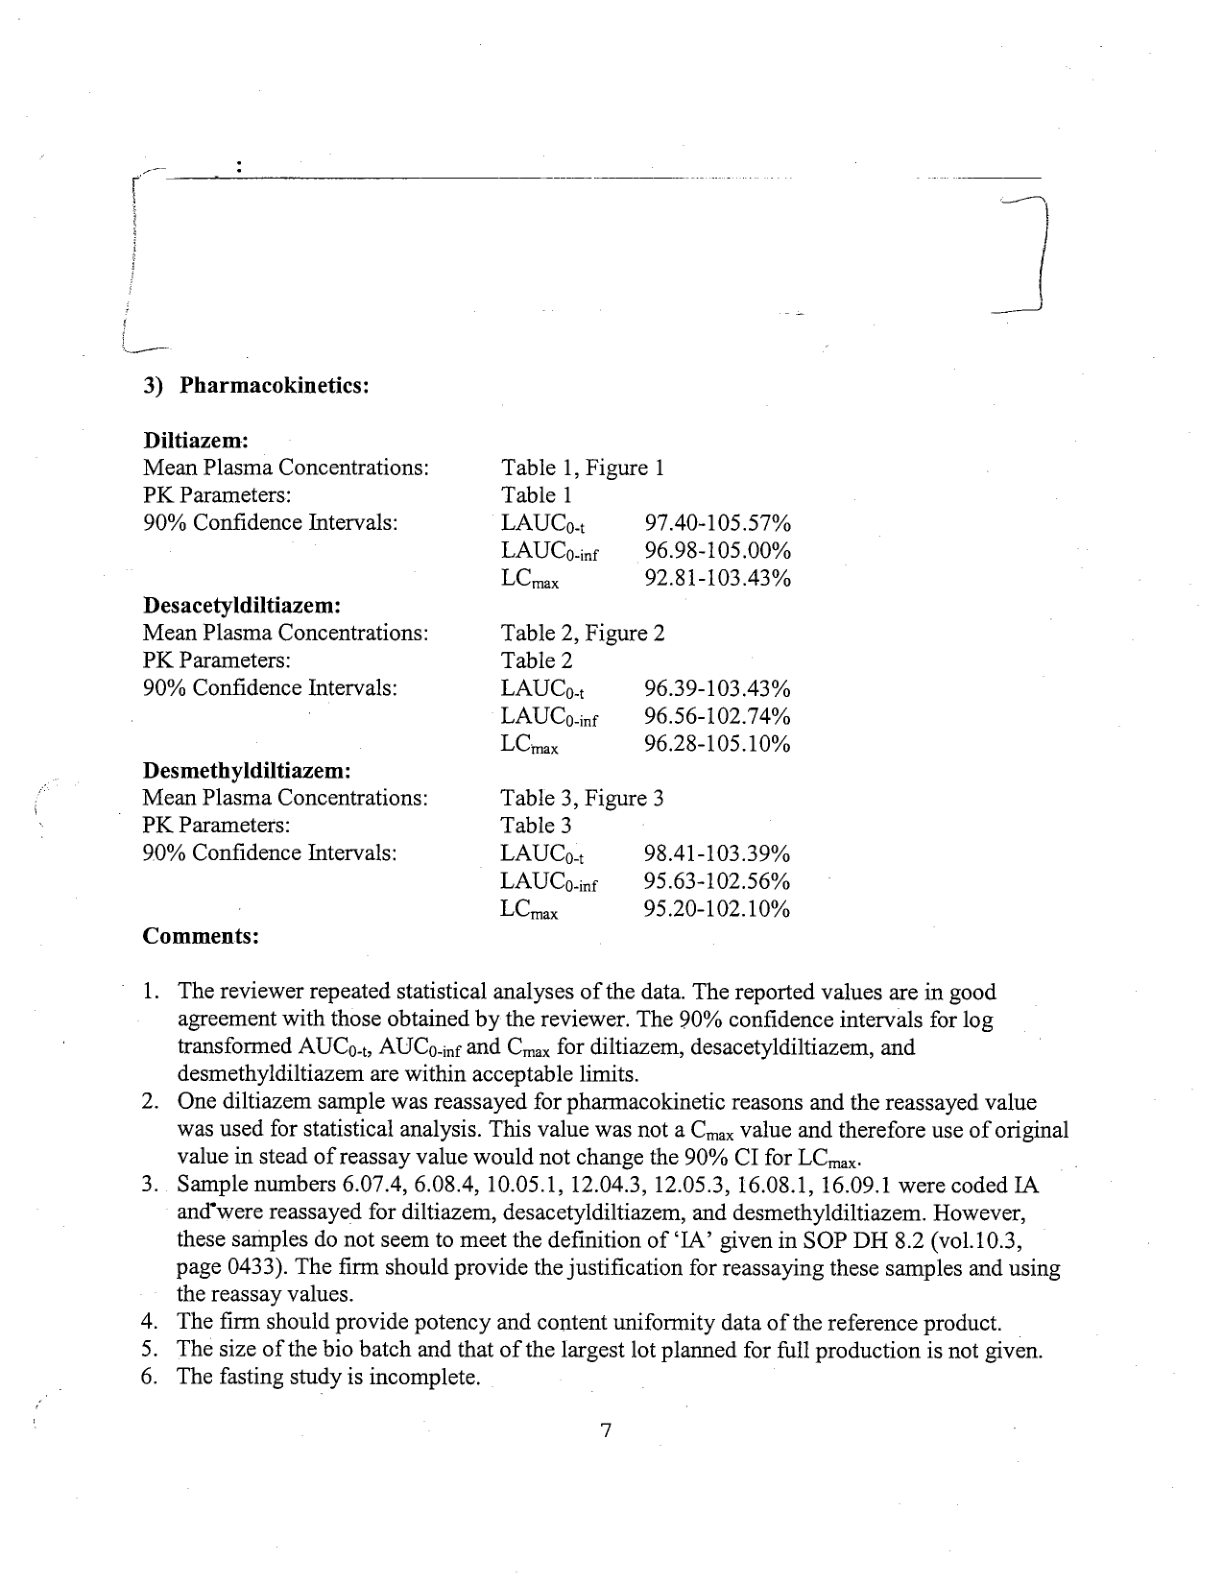nolines: (141, 424, 798, 923)
